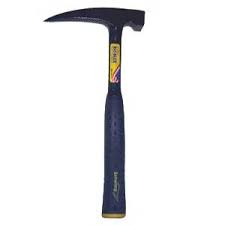hammer: (42, 6, 146, 219)
